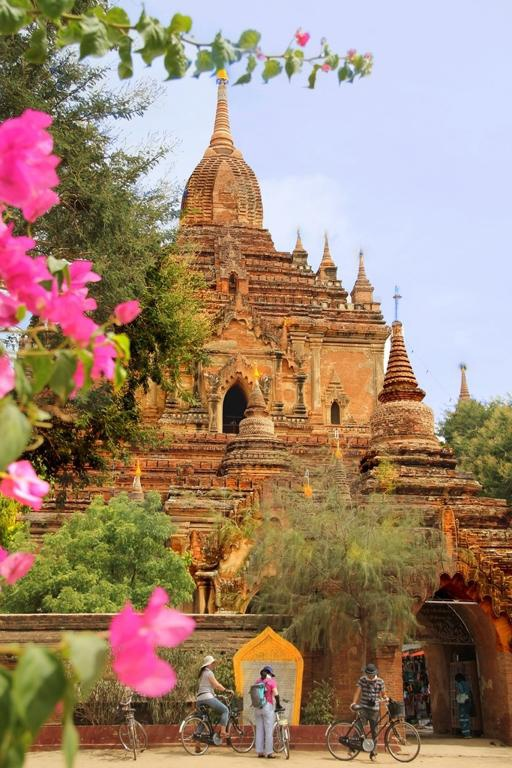non-vehicle: (325, 698, 421, 762), (175, 686, 256, 754), (251, 695, 295, 759), (116, 691, 149, 761)
